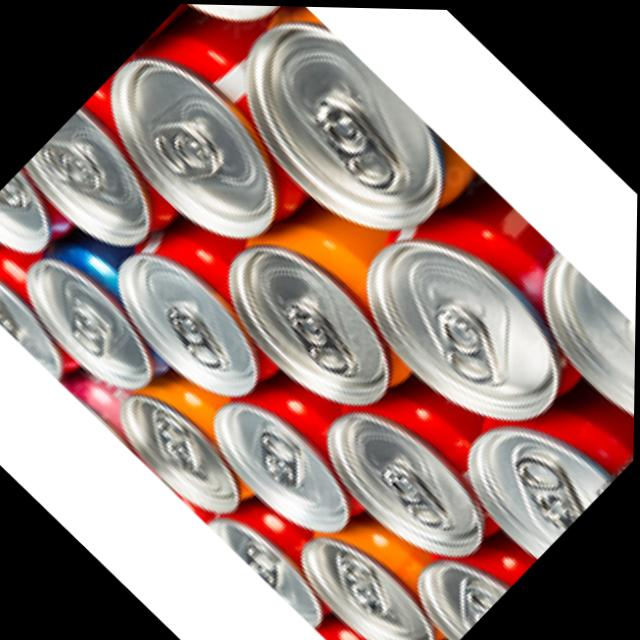aluminum_soda_cans: (202, 4, 471, 259), (350, 218, 583, 448), (93, 53, 299, 257), (213, 232, 411, 428), (458, 381, 636, 567), (100, 250, 270, 418), (199, 379, 367, 544), (330, 409, 489, 567), (19, 120, 168, 266), (303, 524, 439, 640)
